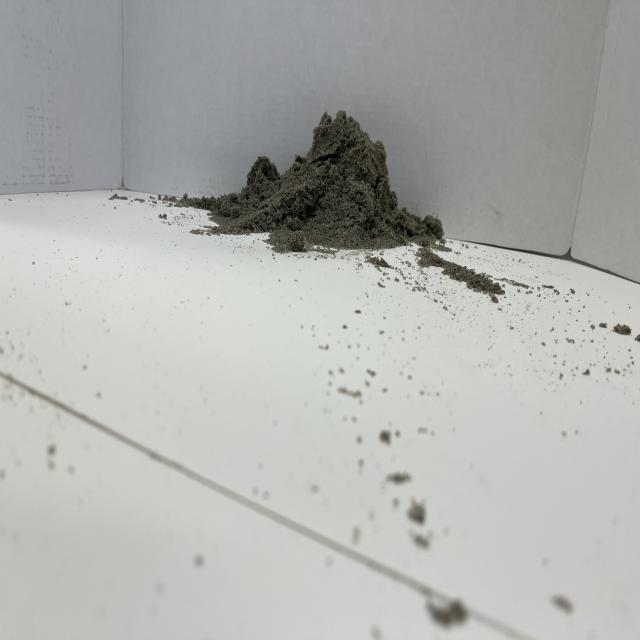sand: (186, 91, 457, 276)
